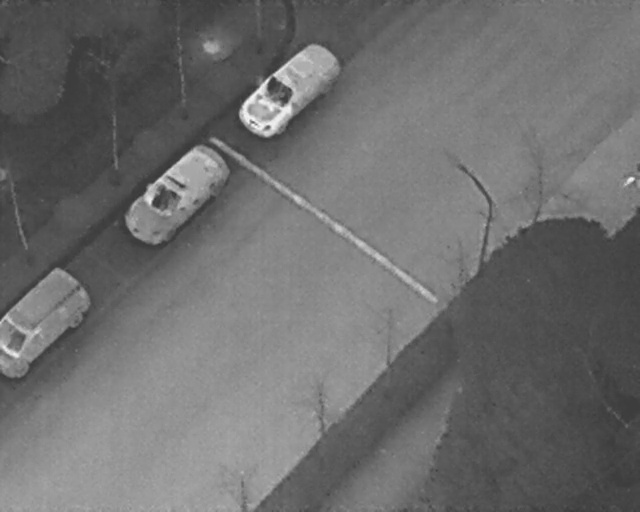Car: (115, 135, 237, 255), (232, 32, 347, 146), (0, 262, 89, 379)
